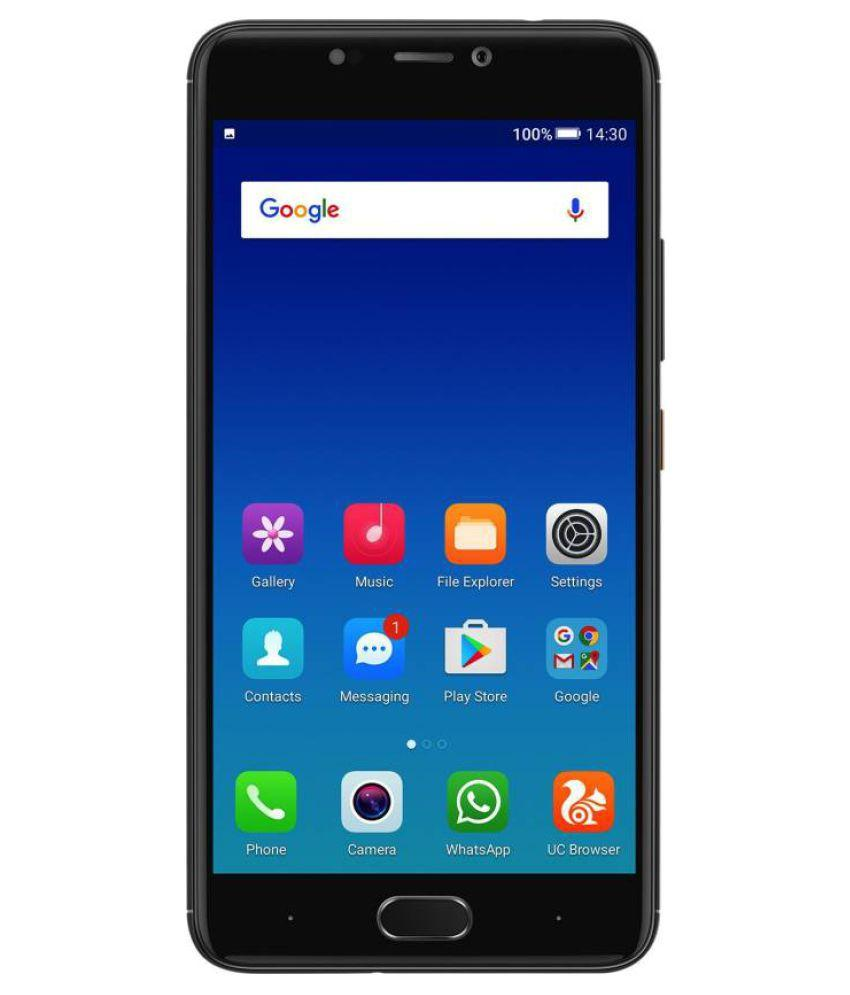Smart Phone: (182, 17, 665, 986)
